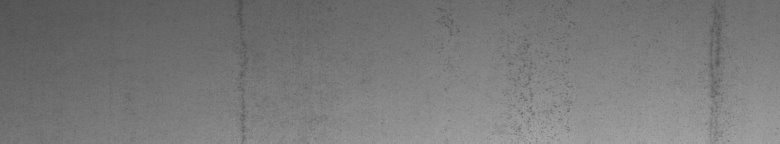ib: (436, 16, 572, 136)
